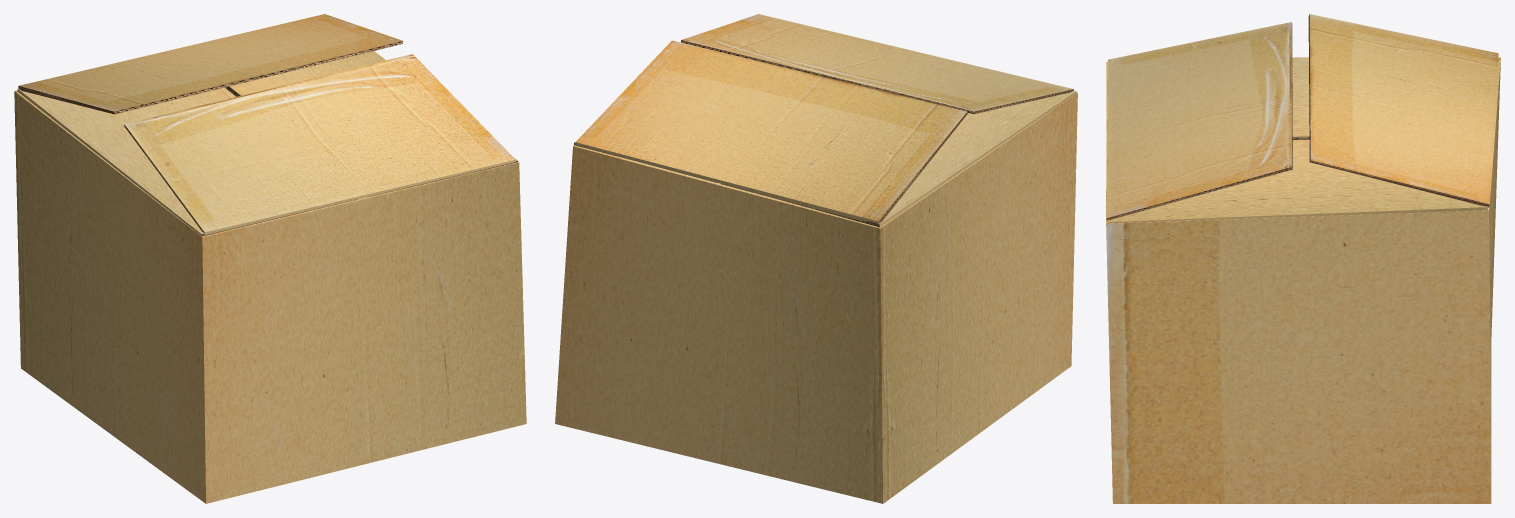
The model's file is box-static.fbx.
The picture shows the model from 3 angles, left to right: view 1: azimuth 30°, elevation 25°; view 2: azimuth 150°, elevation 25°; view 3: azimuth 270°, elevation 25°; orthographic projection. The views are drawn at different scales.
Visible parts, largest first — view 1: Cube.006; view 2: Cube.006; view 3: Cube.006.
Part boxes in pixels (bbox=[...]): Cube.006: bbox=[14, 14, 526, 503]; Cube.006: bbox=[555, 14, 1077, 503]; Cube.006: bbox=[1106, 14, 1500, 503].
Bounding box in the file's own units: 198 × 185 × 200.
